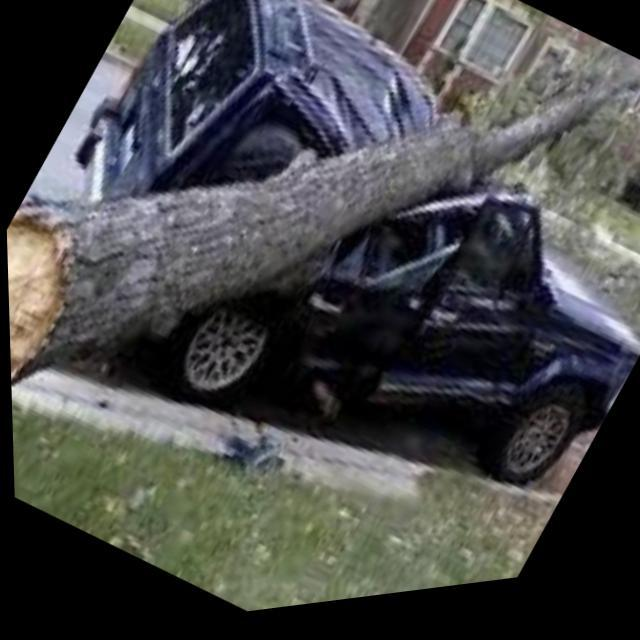crash: (275, 60, 550, 410)
